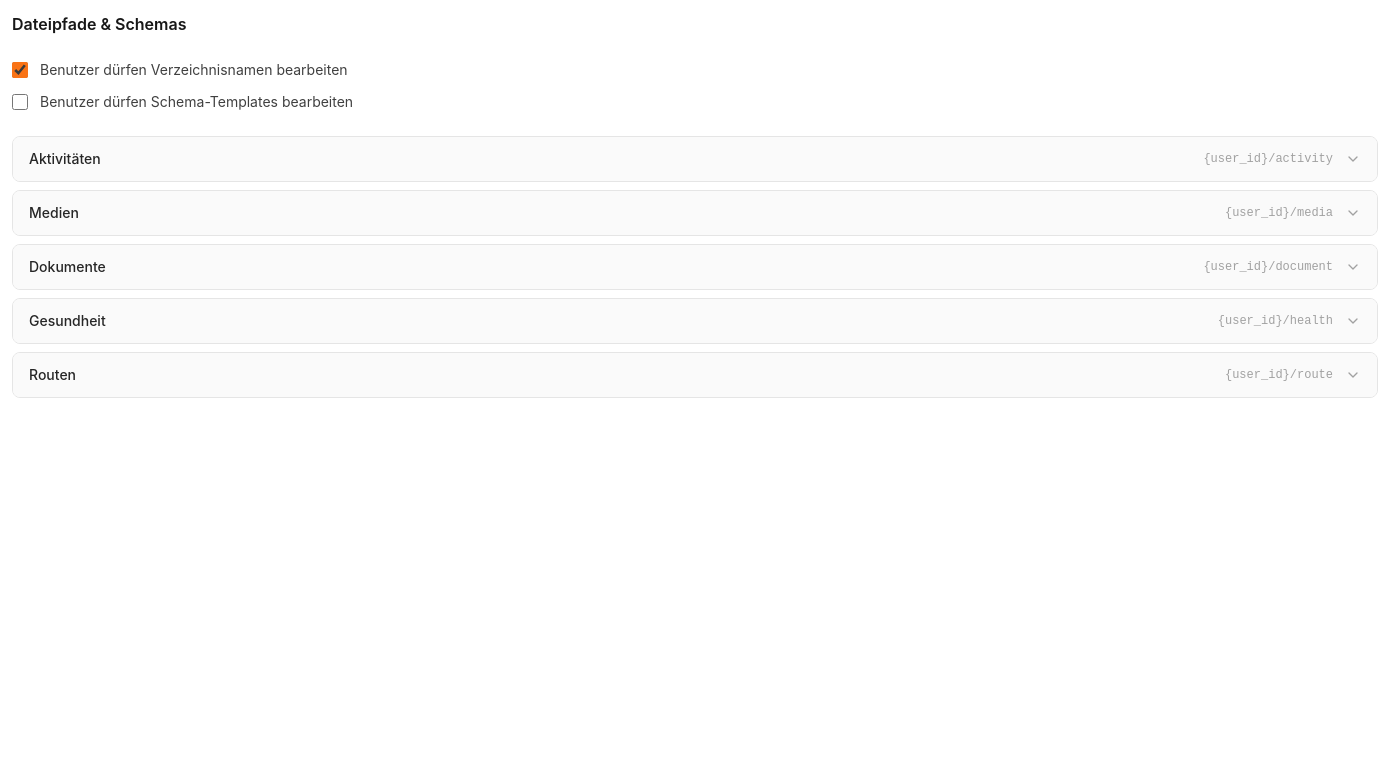
Test: AdminLibrarySettingsTab › shows schema input when accordion row is expanded
The image size is (1390, 780).
Click to expand the activity row.
Click the button "Aktivitäten {user_id}/activity" at [65, 158], box [13, 137, 1377, 181]
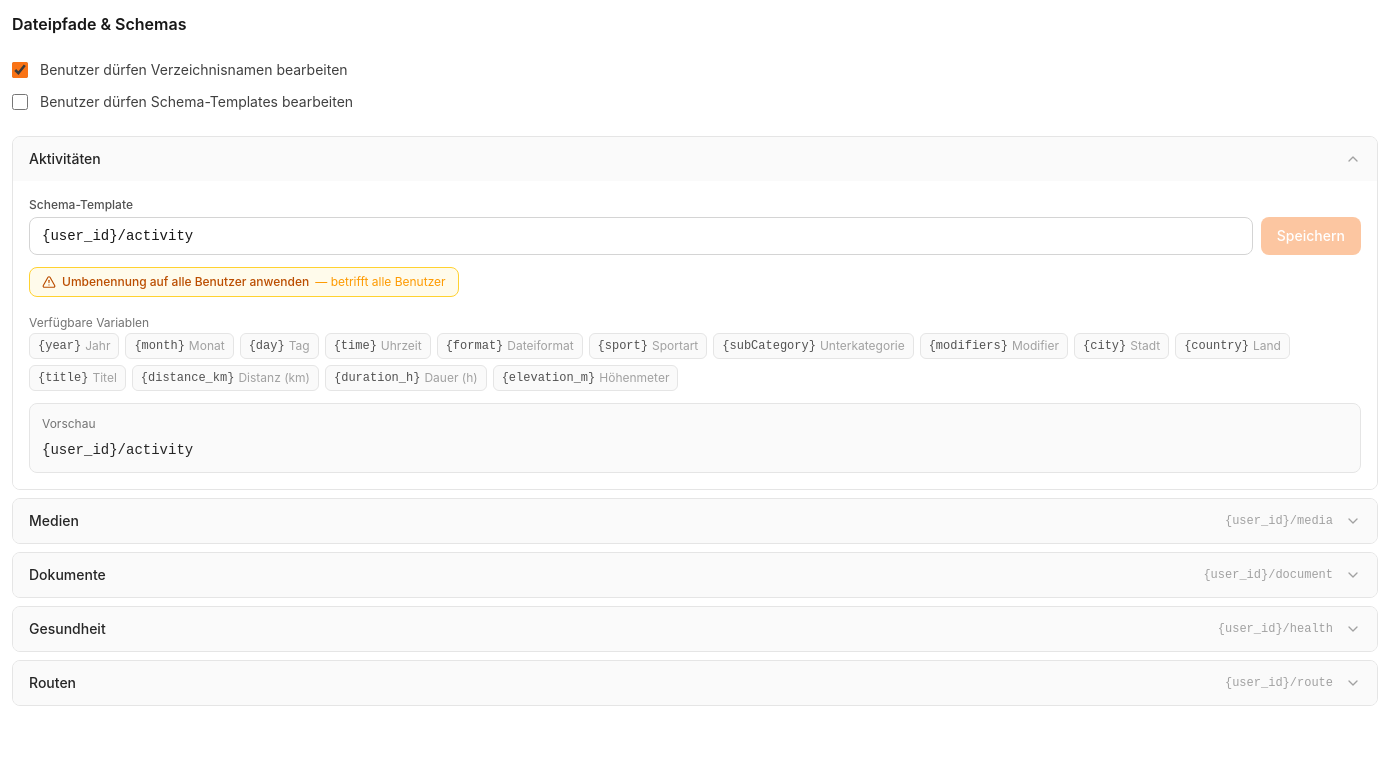
Now the number of fields is 1, box [29, 217, 1253, 255]
